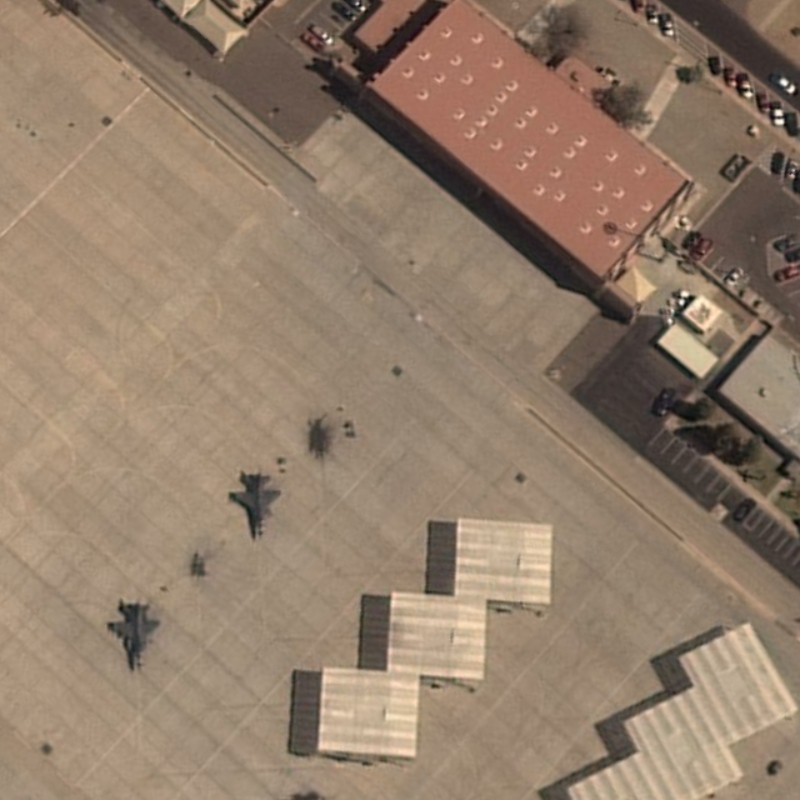A5: (107, 599, 162, 675), (231, 468, 284, 544)
